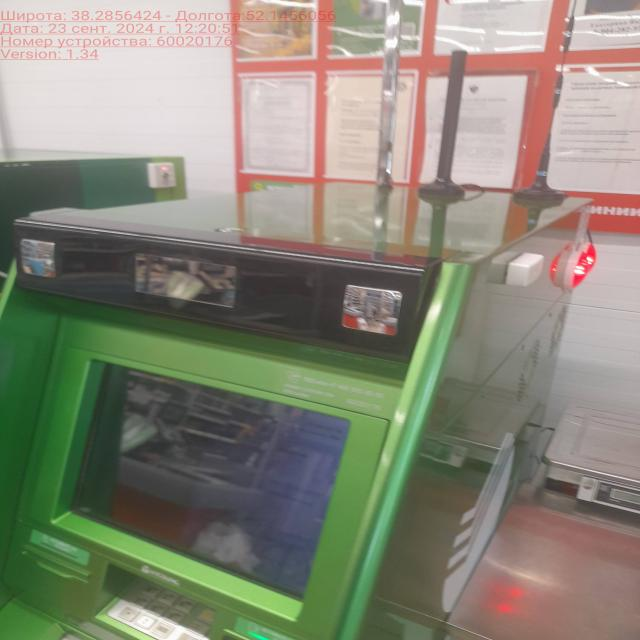bank: (0, 168, 585, 640)
